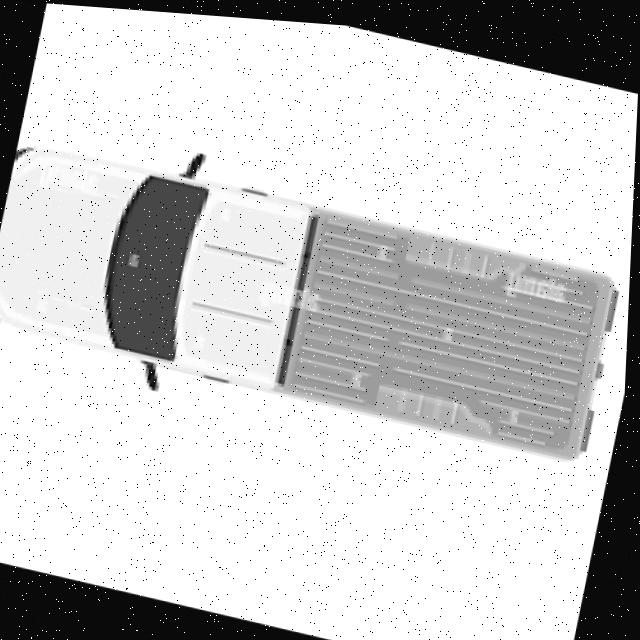truck: (0, 125, 636, 454)
